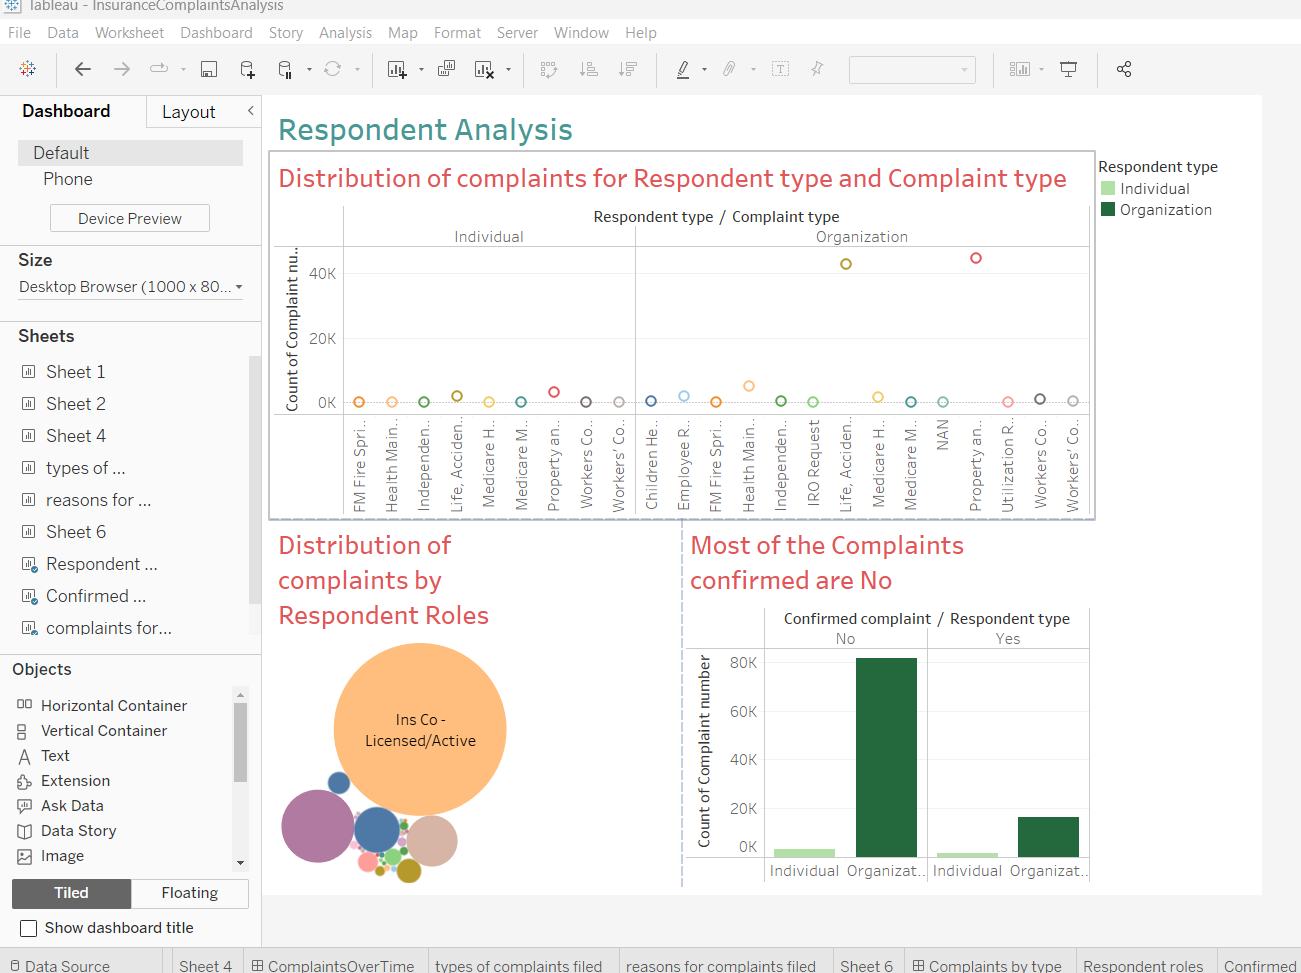

The page's visual inventory and layout, read from the dashboard file:
{"tool":"tableau","page":{"name":"Respondent Analysis","canvas":[1000,800],"ordinal":2},"visuals":[{"type":"title","box":[8,8,984,49]},{"type":"worksheet","title":"complaints for respondent type and complaint type","mark":"Shape","rows":["Complaint number"],"cols":["Respondent type","Complaint type"],"box":[8,57,824,367.5]},{"type":"legend","title":"Confirmed complaints","param":"[federated.0un4jei15bbcvl1elf4x41mn3vh6].[none:Respondent type:nk]","box":[832,57,160,72]},{"type":"worksheet","title":"Respondent roles","mark":"Circle","box":[8,424.5,412,367.5]},{"type":"worksheet","title":"Confirmed complaints","mark":"Automatic","rows":["Complaint number"],"cols":["Confirmed complaint","Respondent type"],"box":[420,424.5,412,367.5]}]}

Visuals, with their boxes on the page's 1000x800 design canvas (x1, y1, x2, y2). These are canvas units, not pixel positions in the 1301x973 screenshot, which may show the page scaled, cropped or inside an application window:
title: BBox(8, 8, 992, 57)
"complaints for respondent type and complaint type" worksheet (Shape marks): BBox(8, 57, 832, 424)
"Confirmed complaints" legend: BBox(832, 57, 992, 129)
"Respondent roles" worksheet (Circle marks): BBox(8, 424, 420, 792)
"Confirmed complaints" worksheet: BBox(420, 424, 832, 792)
